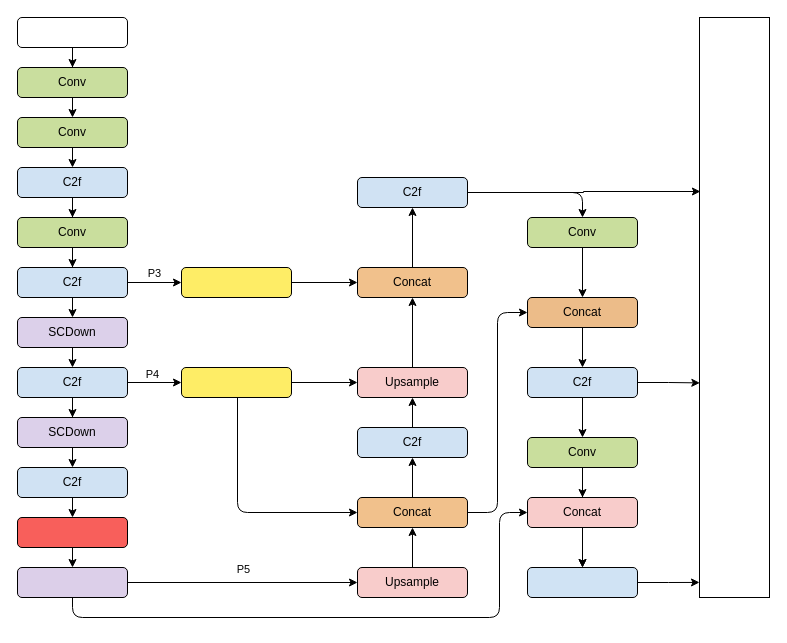
The diagram is 787 pixels wide and 643 high, and some of its shapes have lost their labels. Each missing label, with the centre of its shape:
"C2fCIB" belongs at (x=582, y=582).
"Input pseudo-color (H,W,3)" belongs at (x=72, y=32).
"PSA" belongs at (x=72, y=582).
"SPPF" belongs at (x=72, y=532).
"TSGM-P3" belongs at (x=236, y=282).
"TSGM-P4" belongs at (x=236, y=382).
"v10Detect (NNS-Free)" belongs at (x=734, y=307).
